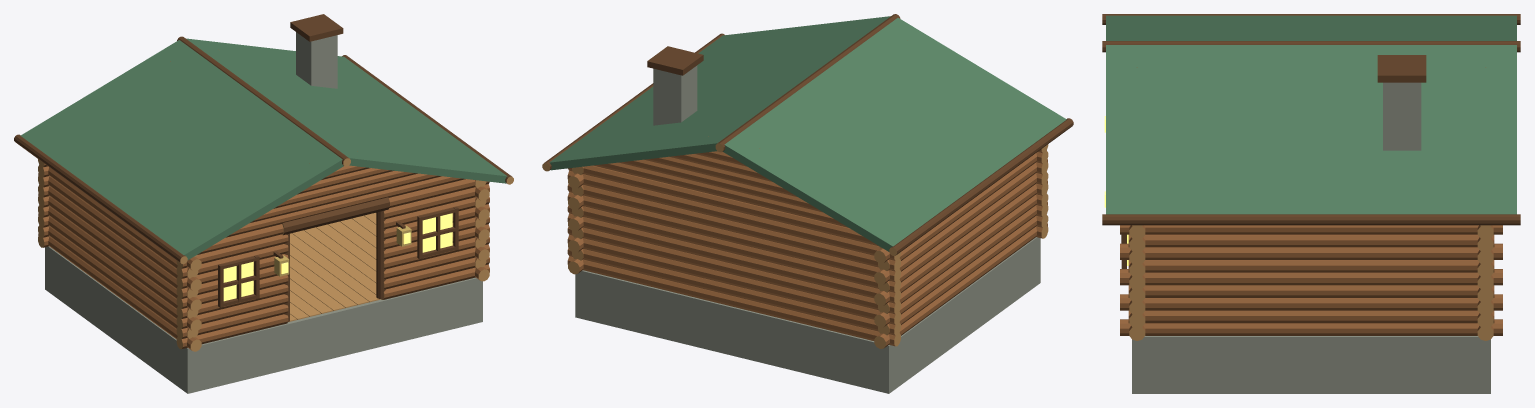
Rendered from shop.glb.
3 views of the same model, side by side, from view 1: azimuth 30°, elevation 25°; view 2: azimuth 150°, elevation 25°; view 3: azimuth 270°, elevation 25° (orthographic). The views are drawn at different scales.
Visible parts, largest first — view 1: Cabin_roof_mesh, Cedar_log_cabin; view 2: Cedar_log_cabin, Cabin_roof_mesh; view 3: Cabin_roof_mesh, Cedar_log_cabin.
Boxes of the visible parts, x1,y1,x2,y2 form: Cabin_roof_mesh: (14, 14, 513, 264); Cedar_log_cabin: (38, 159, 489, 393); Cedar_log_cabin: (567, 144, 1048, 393); Cabin_roof_mesh: (542, 14, 1073, 255); Cabin_roof_mesh: (1102, 14, 1520, 225); Cedar_log_cabin: (1104, 116, 1502, 393).
Bounding box in the file's own units: 13.9 × 9.26 × 12.
